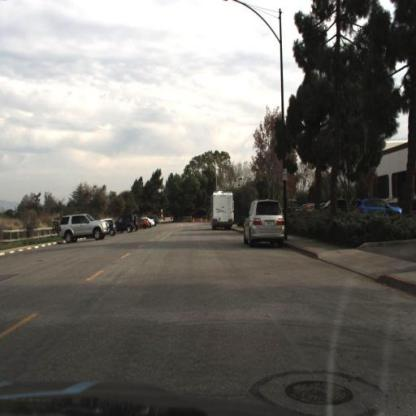car: (243, 197, 287, 249), (58, 210, 109, 246), (354, 195, 404, 226), (115, 214, 138, 237)
truck: (211, 189, 238, 230)
